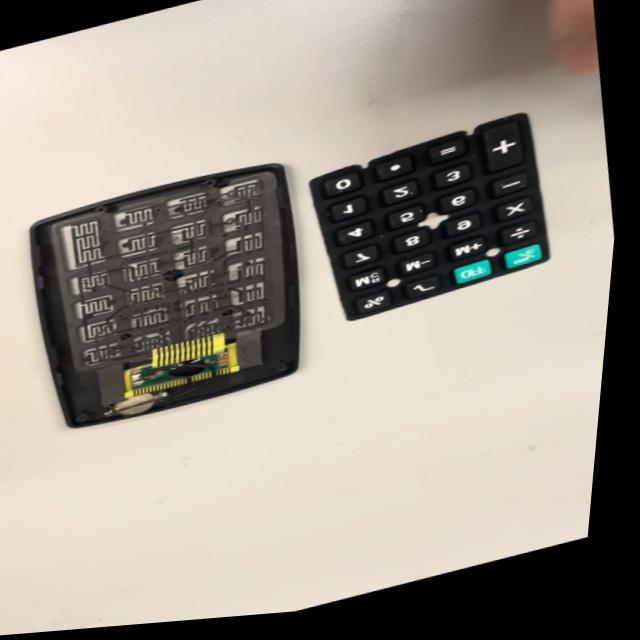front_panel: (0, 152, 324, 450)
number_pad: (287, 97, 574, 347)
